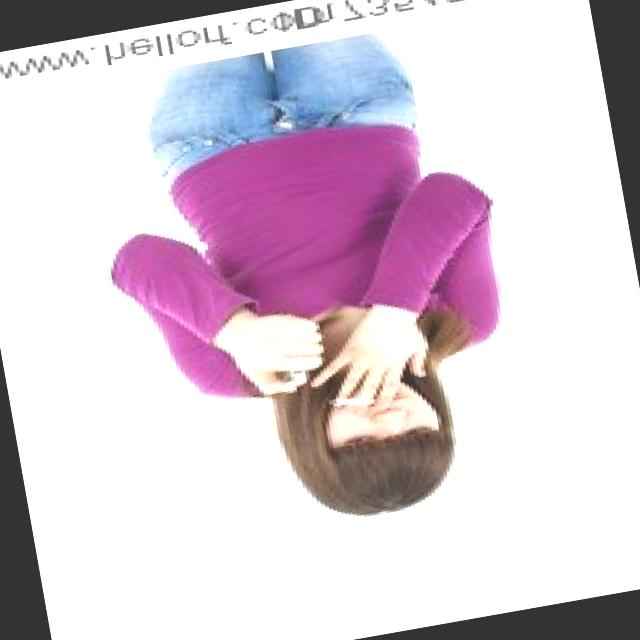smoke: (304, 384, 383, 418)
